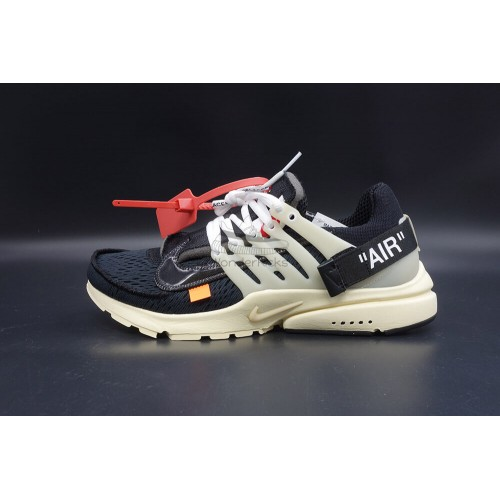Nike x OFF--WHITE Air Presto OG: (77, 166, 441, 346)
